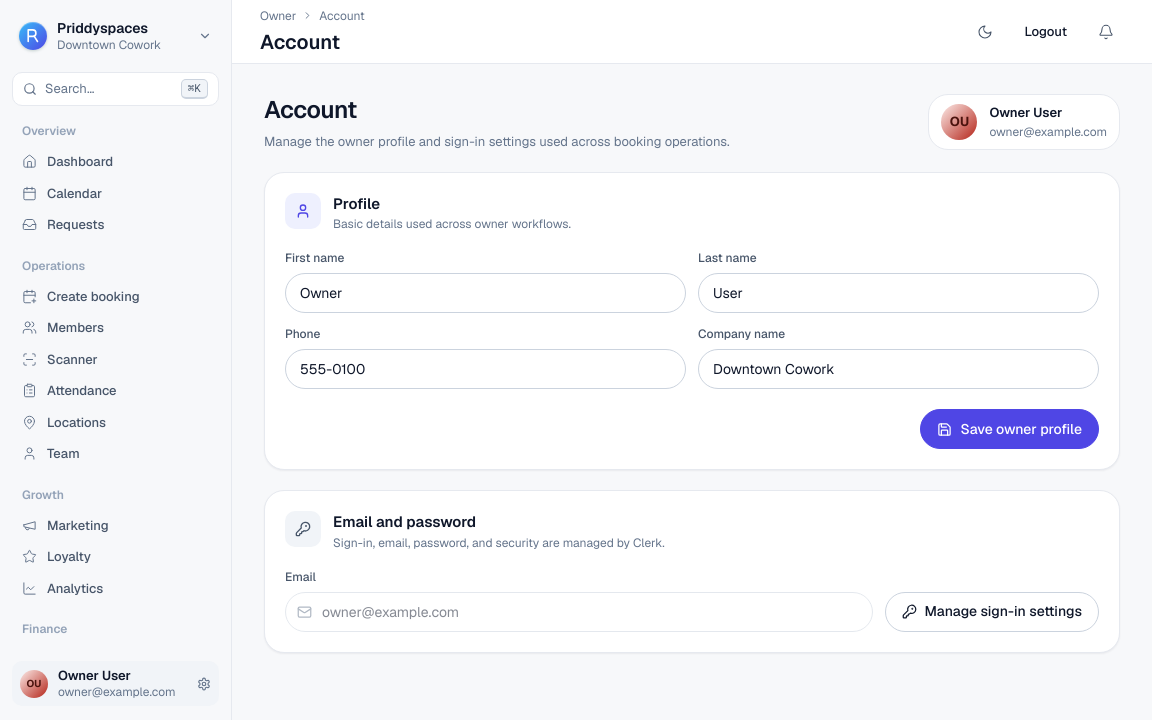
it: OwnerAccountPage › saves owner profile fields through /api/me
Expected: the 1st heading "Account" is shown, [260, 26, 340, 56]
Expected: the field labelled "Email" holds "owner@example.com", [285, 592, 872, 632]
Replace the text in the field labelled "First name" with "Riley" at (486, 293), box [285, 273, 686, 313]
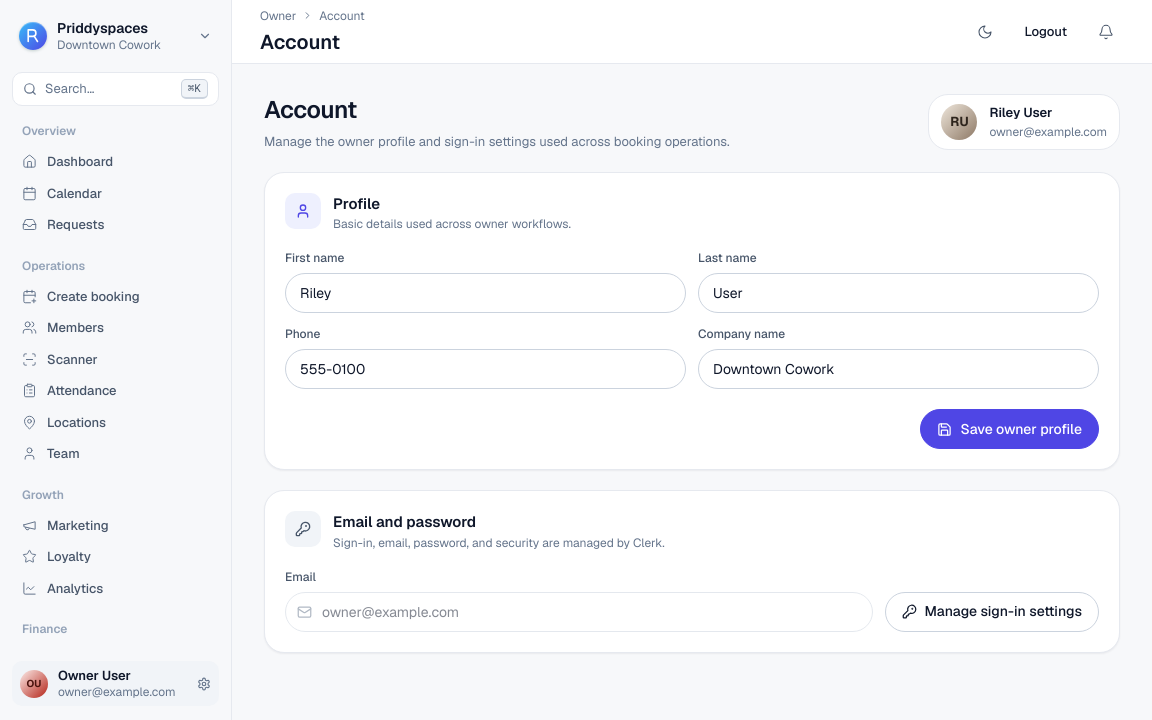
Replace the text in the field labelled "Phone" with "555-0199" at (486, 369), box [285, 349, 686, 389]
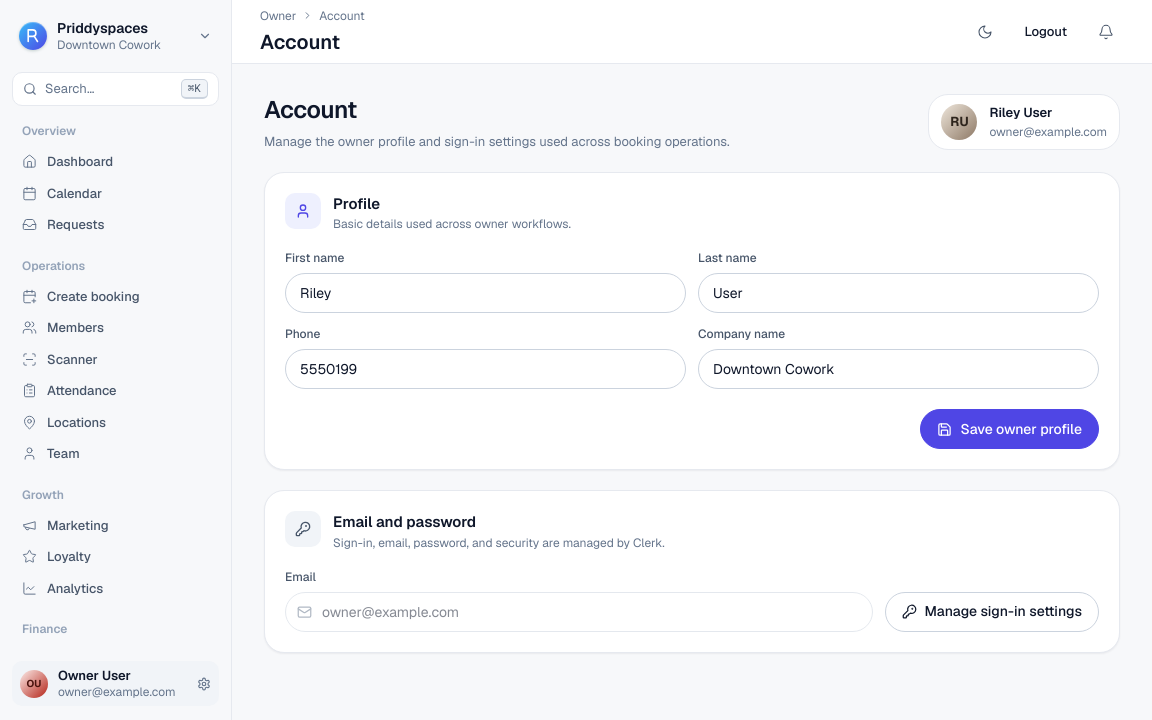
Click the button "Save owner profile" at (1010, 429), box [920, 409, 1099, 449]
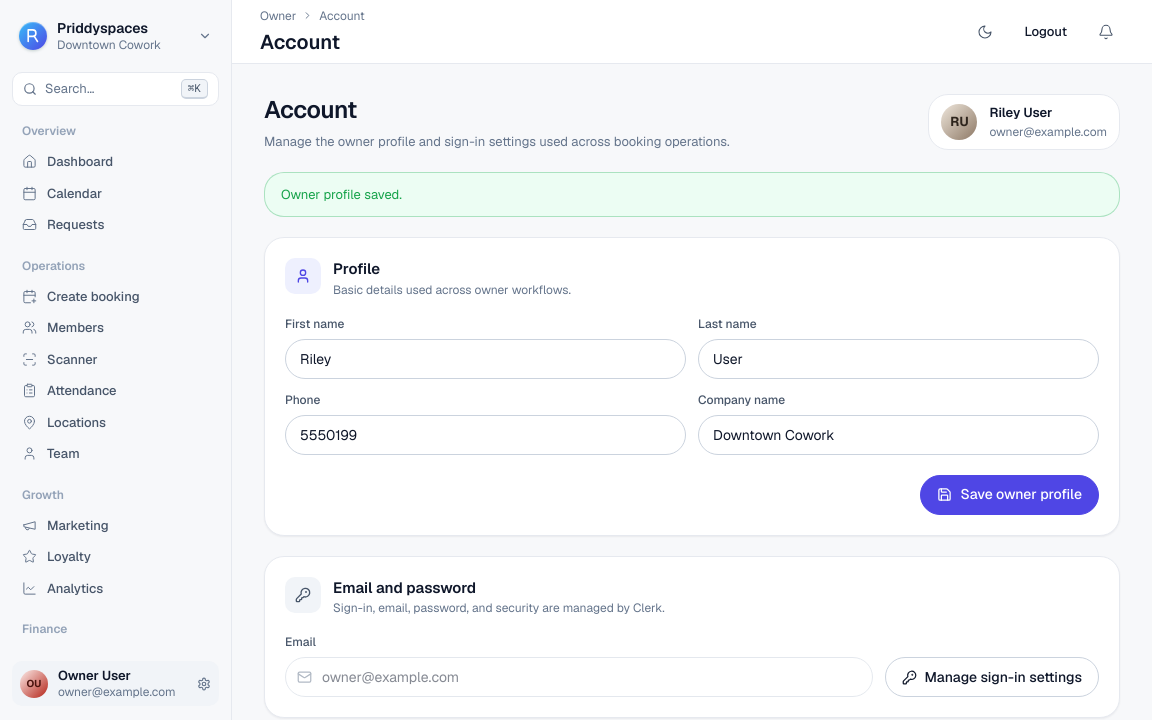
Expected: the text "Owner profile saved." is shown, [264, 172, 1120, 217]
